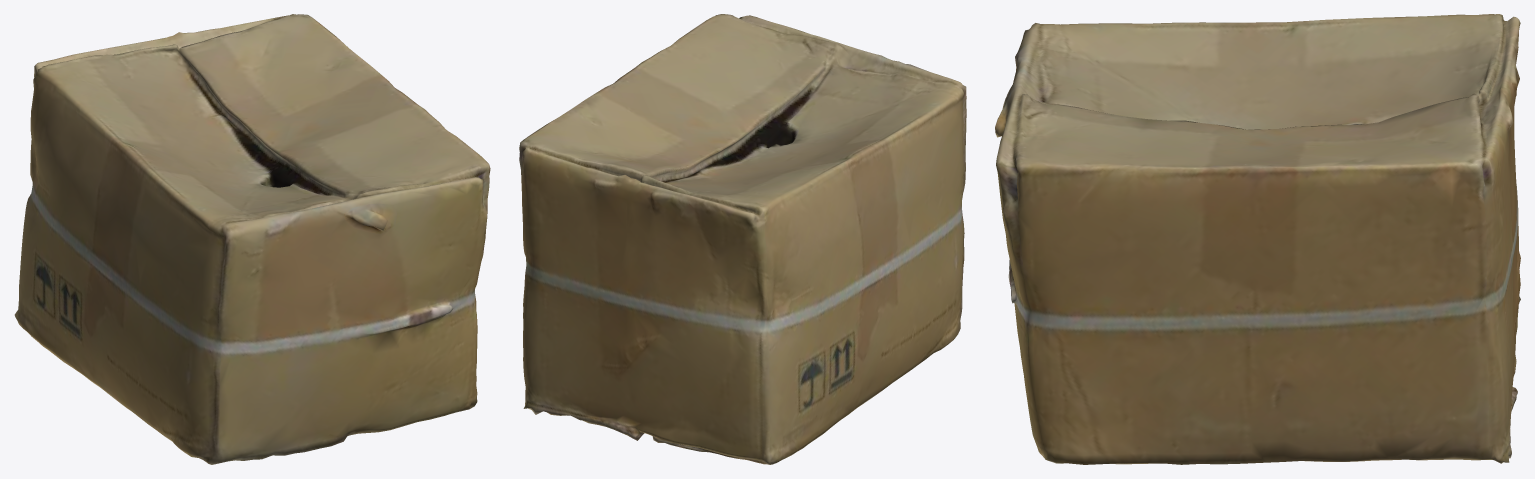
File: cardboard_box_01.glb
3 renders of one model, left to right at view 1: azimuth 30°, elevation 25°; view 2: azimuth 150°, elevation 25°; view 3: azimuth 270°, elevation 25°, orthographic. The views are drawn at different scales.
Parts seen in each view (by area): view 1: cardboard_box_01; view 2: cardboard_box_01; view 3: cardboard_box_01.
Boxes of the visible parts, x1,y1,x2,y2 form: cardboard_box_01: [14, 14, 490, 464]; cardboard_box_01: [519, 14, 966, 464]; cardboard_box_01: [995, 14, 1520, 464].
Bounding box in the file's own units: 0.387 × 0.3418 × 0.5159.
Materials: 1 (1 with a texture image).
